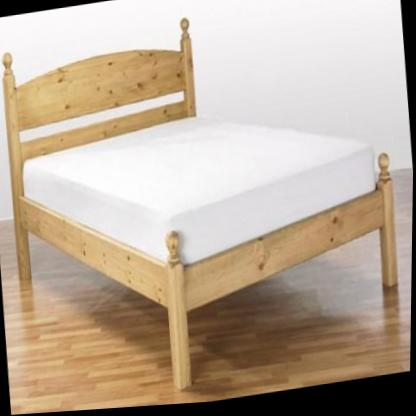Bed: (0, 0, 411, 411)
